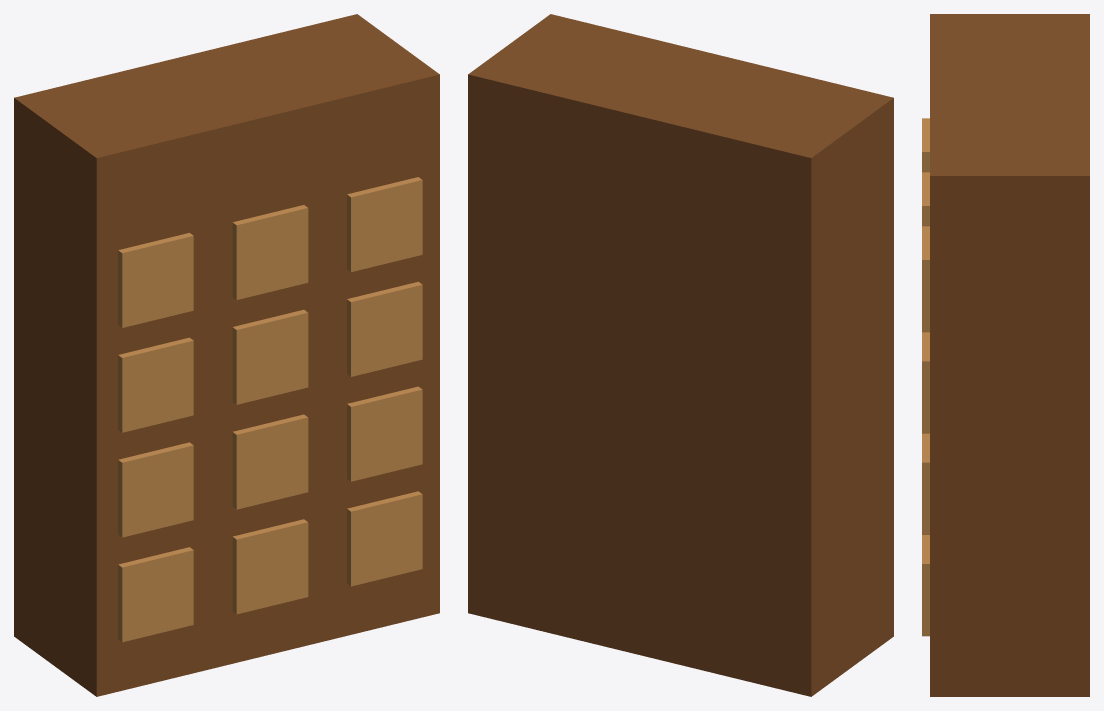
The model's file is apothecary_cabinet.glb.
3 renders of one model, left to right at view 1: azimuth 30°, elevation 25°; view 2: azimuth 150°, elevation 25°; view 3: azimuth 270°, elevation 25°, orthographic. The views are drawn at different scales.
Visible parts, largest first — view 1: apothecary_cabinet; view 2: apothecary_cabinet; view 3: apothecary_cabinet.
Part boxes in pixels (bbox=[...]): apothecary_cabinet: bbox=[14, 14, 439, 696]; apothecary_cabinet: bbox=[468, 14, 893, 696]; apothecary_cabinet: bbox=[922, 14, 1089, 696].
Size of the model in its own units: 1.2 by 1.8 by 0.525.
